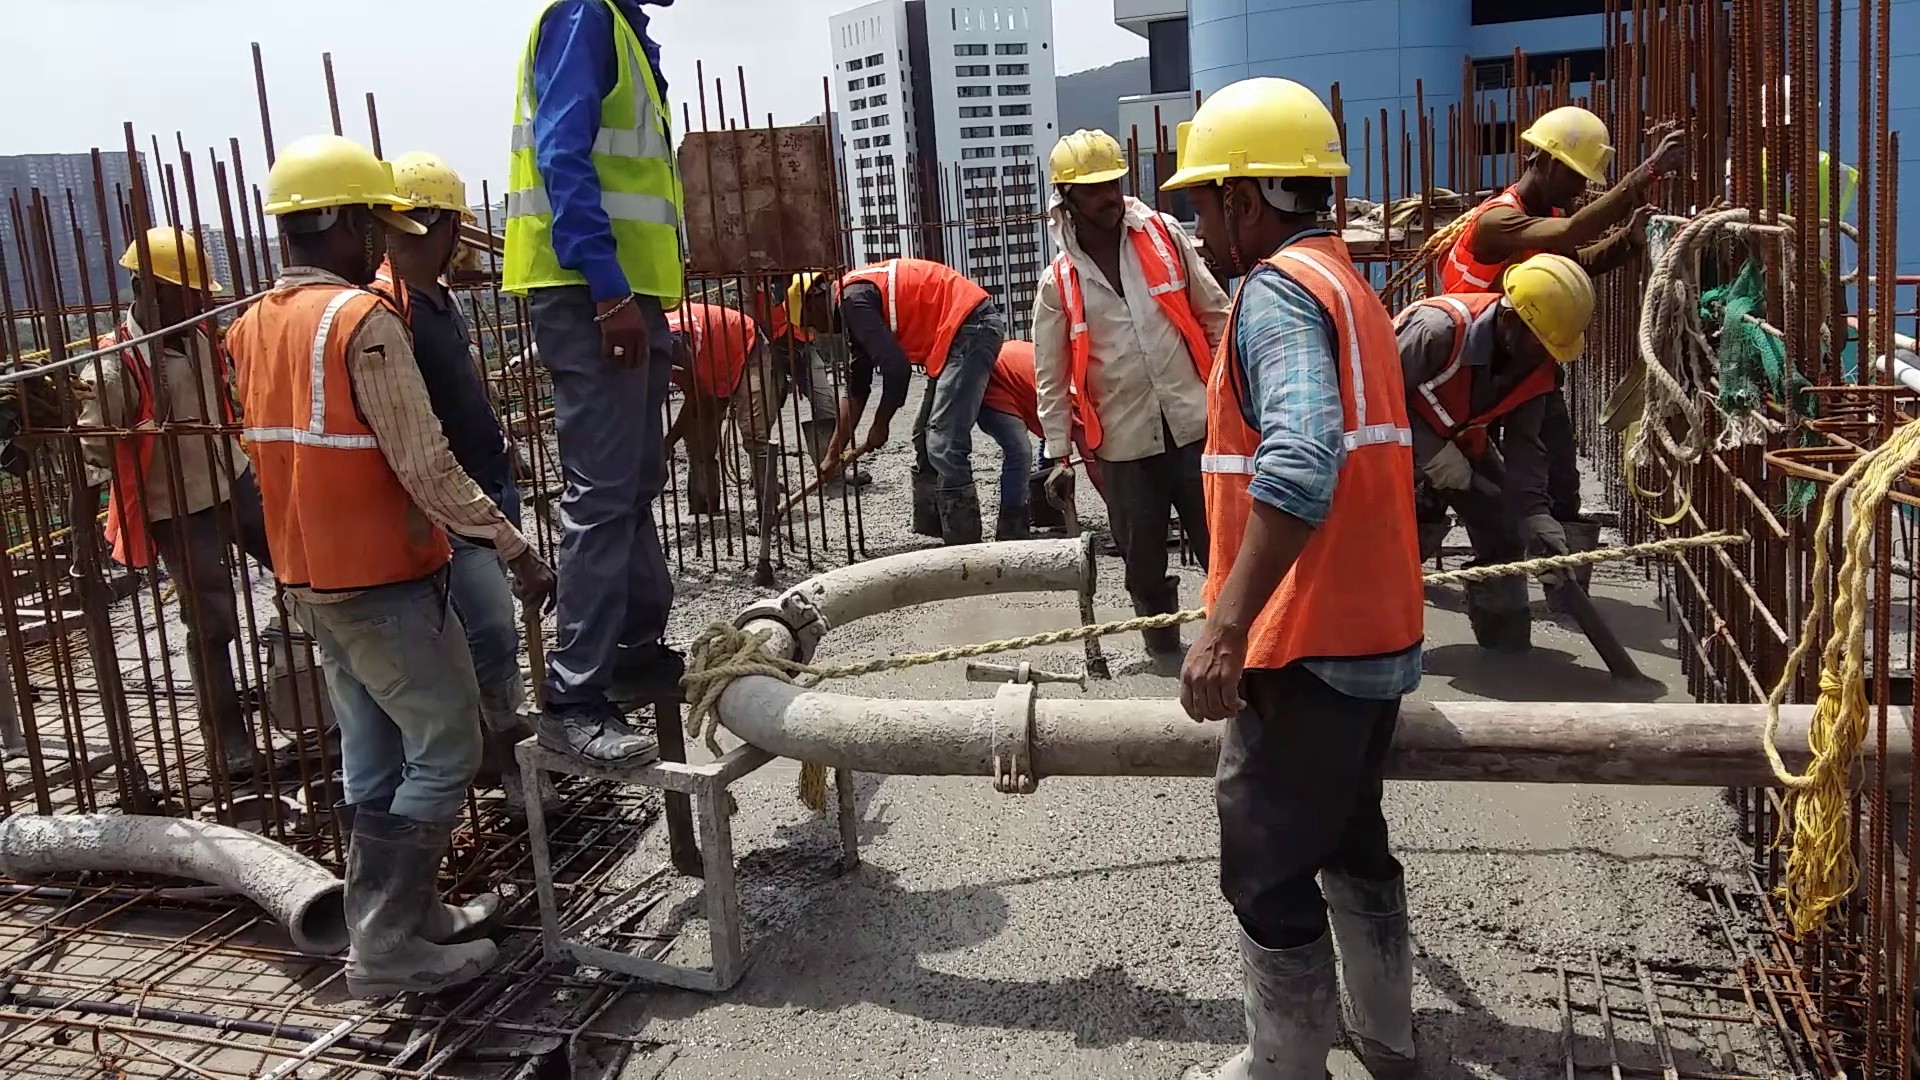SAFE: (1178, 79, 1407, 661), (229, 123, 402, 593), (1044, 123, 1179, 448), (1408, 247, 1598, 444)
